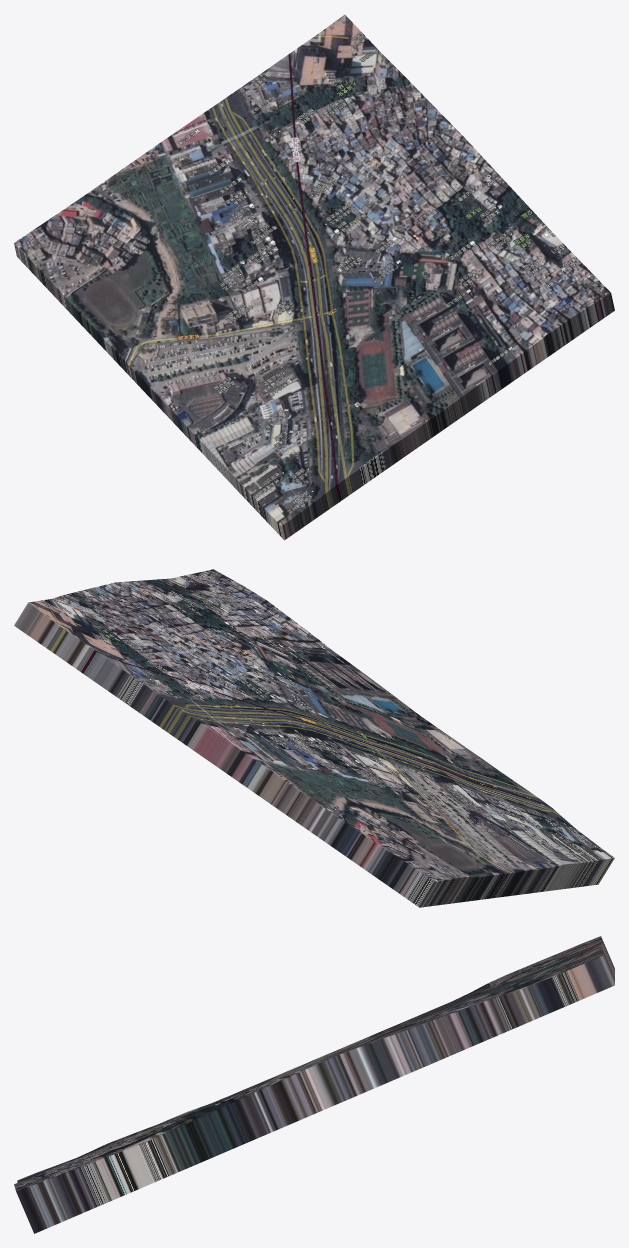
3 renders of one model, top to bottom at view 1: azimuth 30°, elevation 25°; view 2: azimuth 150°, elevation 25°; view 3: azimuth 270°, elevation 25°, orthographic. The views are drawn at different scales.
Parts seen in each view (by area): view 1: 0_0_26; view 2: 0_0_26; view 3: 0_0_26.
Boxes of the visible parts, x1,y1,x2,y2 form: 0_0_26: (14,14,614,540); 0_0_26: (14,569,614,907); 0_0_26: (14,936,614,1233).
Bounding box in the file's own units: 604 × 454 × 561.
1 material, 1 textured.
